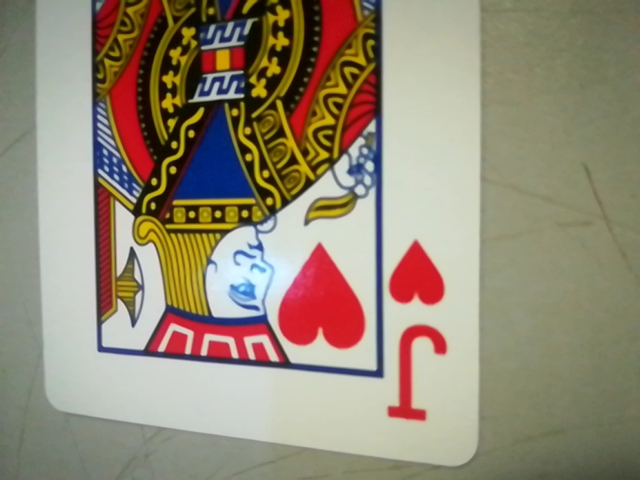hx j: (376, 231, 464, 436)
